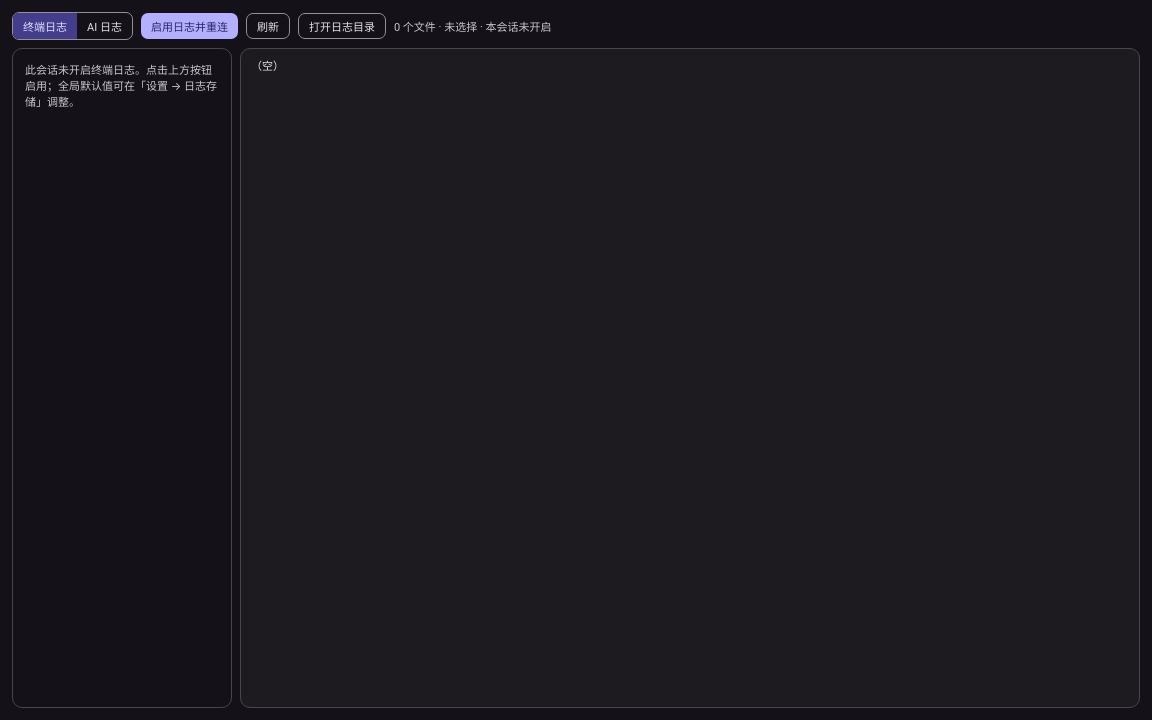
日志事件驱动刷新 › 切换到 AI 日志后读取 AI 回显文件，不再受终端日志开关限制
Click the button "AI 日志" at x=104, y=26, box [77, 13, 132, 39]
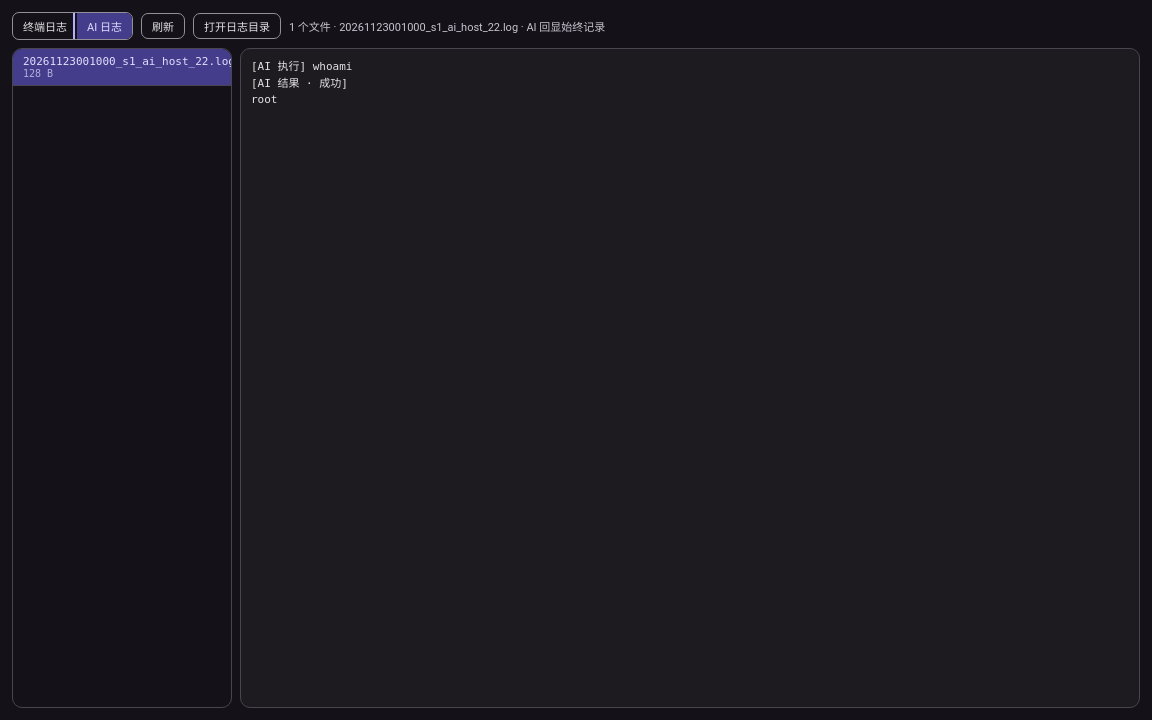
Expected: the text "[AI 执行] whoami [AI 结果 · 成功] root" is shown
Expected: the text "1 个文件 · 20261123001000_s1_ai_host_22.log · AI 回显始终记录" is shown, [289, 18, 605, 34]
